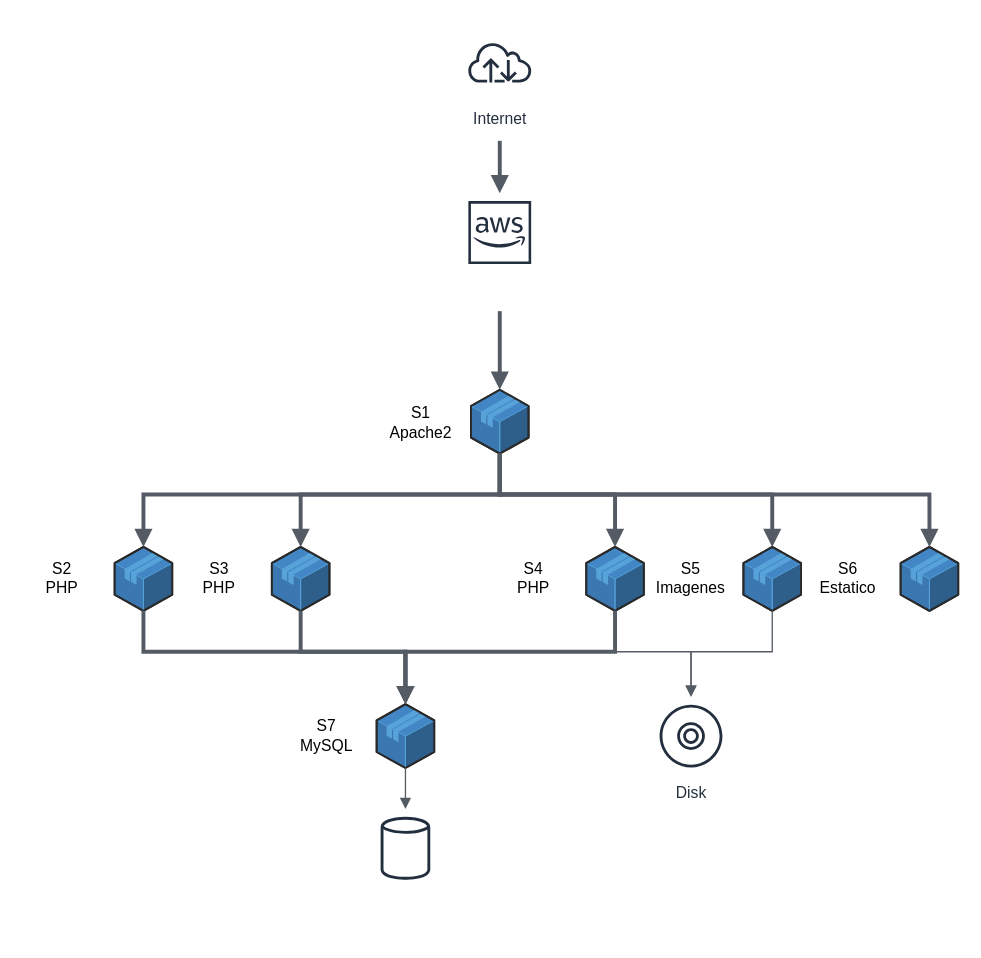
Some shapes in this 981 by 958 pixel diagram are drawn without their labels. Here are the shapes that lost their labels. From the top down, the centre of each, then its label:
At point (499, 232): "AWS Cloud".
At point (405, 848): "Generic database".
